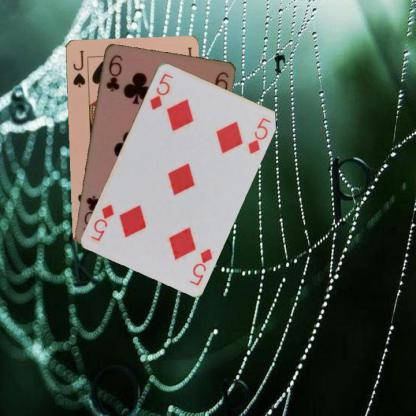5d: (147, 70, 174, 111), (187, 245, 214, 286)
6c: (102, 52, 124, 92)
Js: (70, 48, 86, 88)
